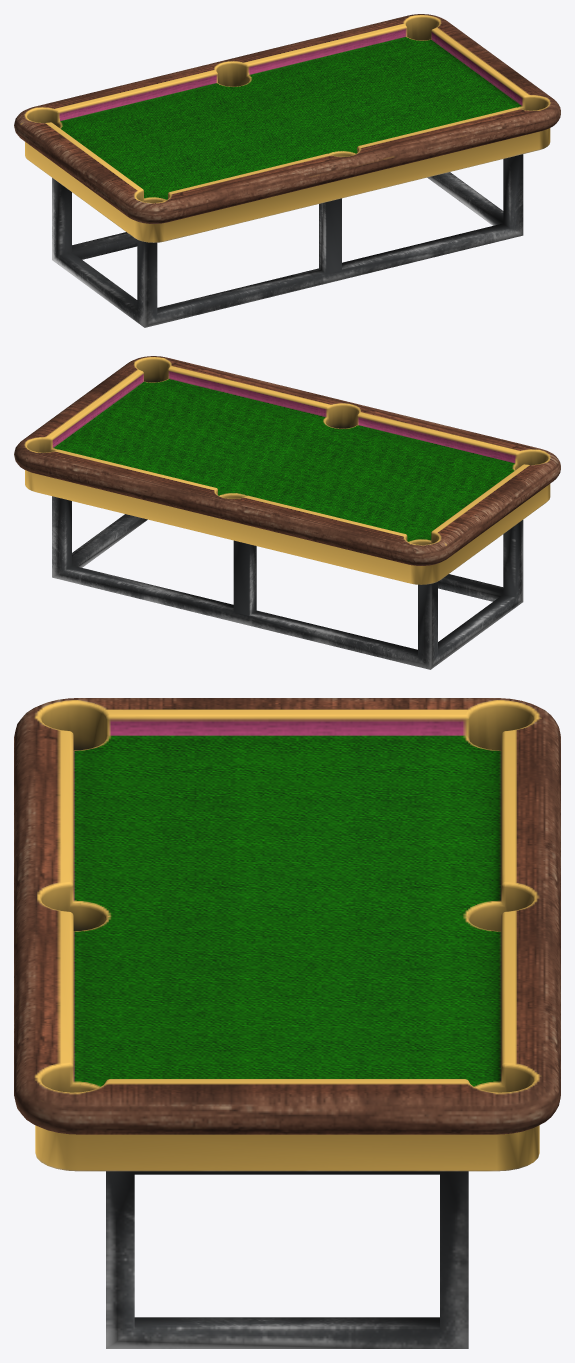
Rendered from Table.fbx.
3 renders of one model, top to bottom at view 1: azimuth 30°, elevation 25°; view 2: azimuth 150°, elevation 25°; view 3: azimuth 270°, elevation 25°, orthographic. The views are drawn at different scales.
Parts seen in each view (by area): view 1: default; view 2: default; view 3: default.
Part boxes in pixels (x1,y1,x2,y2): default: [14, 14, 560, 327]; default: [14, 356, 560, 669]; default: [14, 698, 560, 1348].
Bounding box in the file's own units: 228 × 70 × 128.
